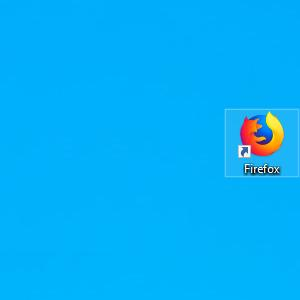firefox: (237, 110, 285, 158)
